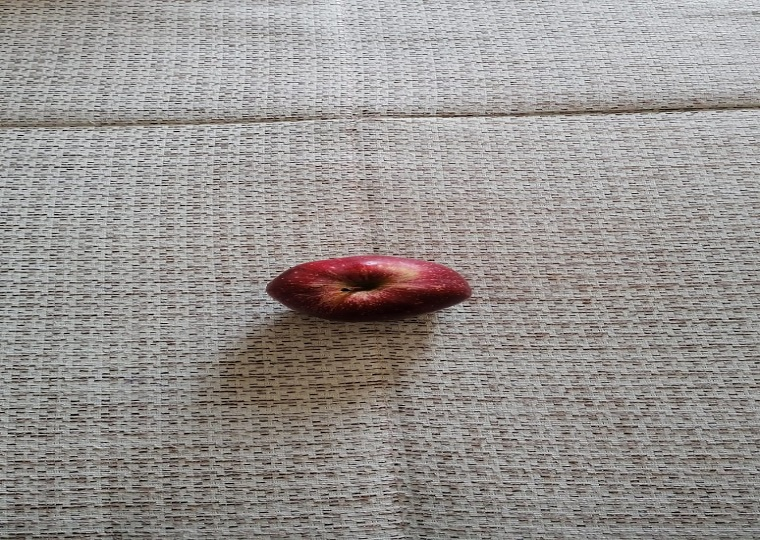elma: (265, 254, 473, 324)
